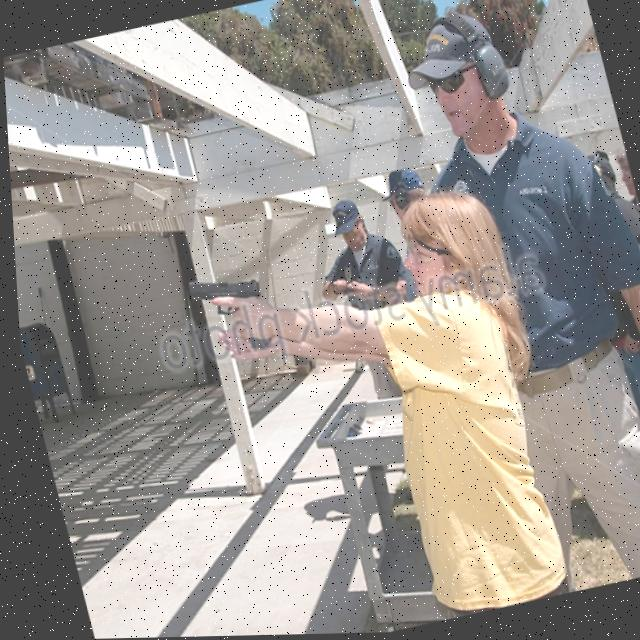pistol: (181, 270, 258, 318)
